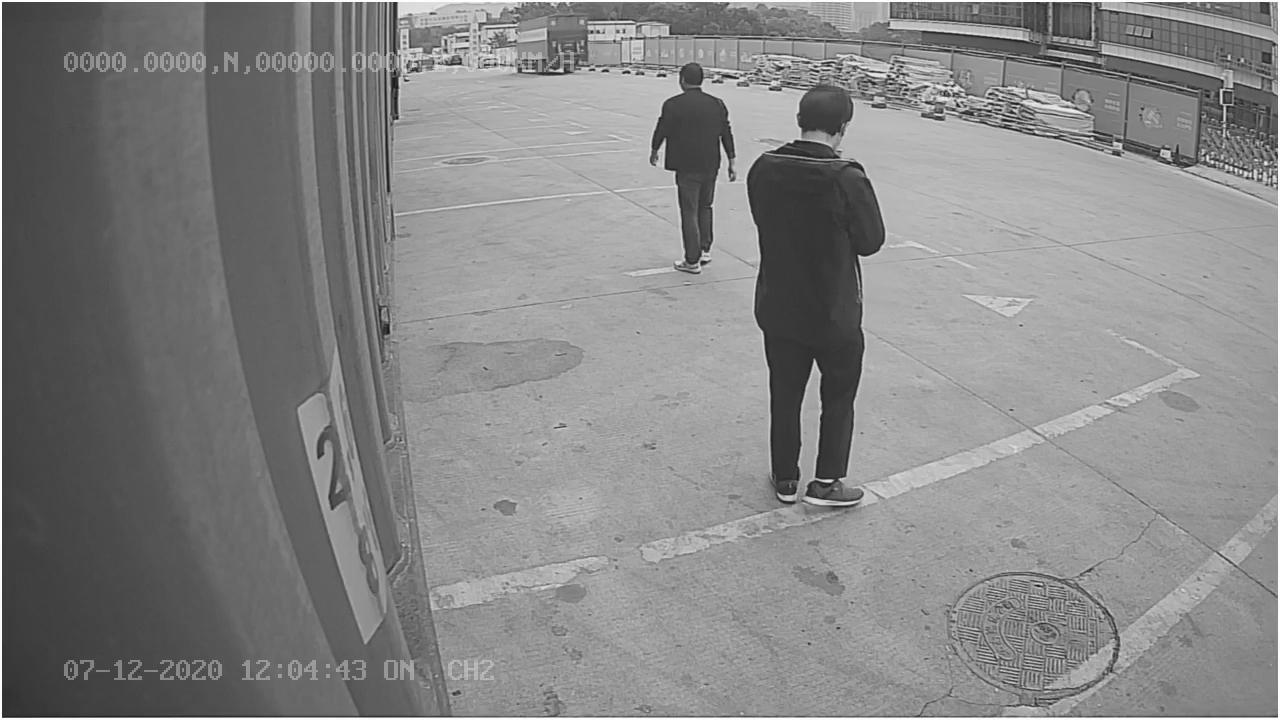person: (745, 82, 893, 510), (645, 58, 737, 276)
